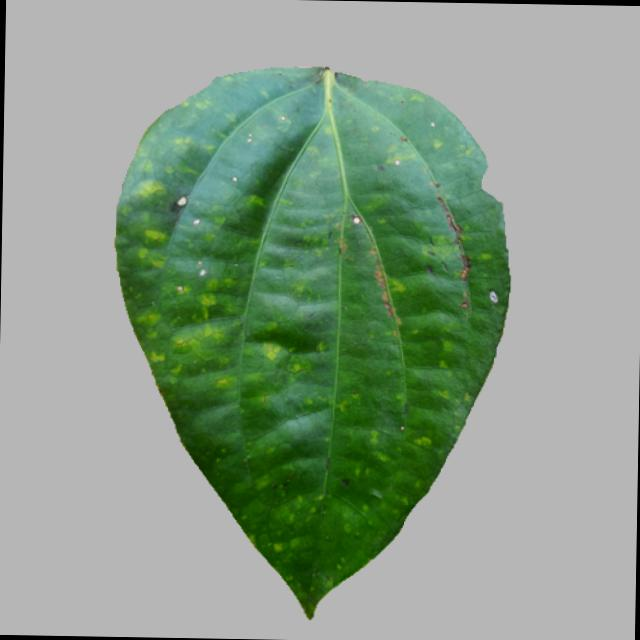yellow-mottle-virus: (88, 72, 546, 631)
